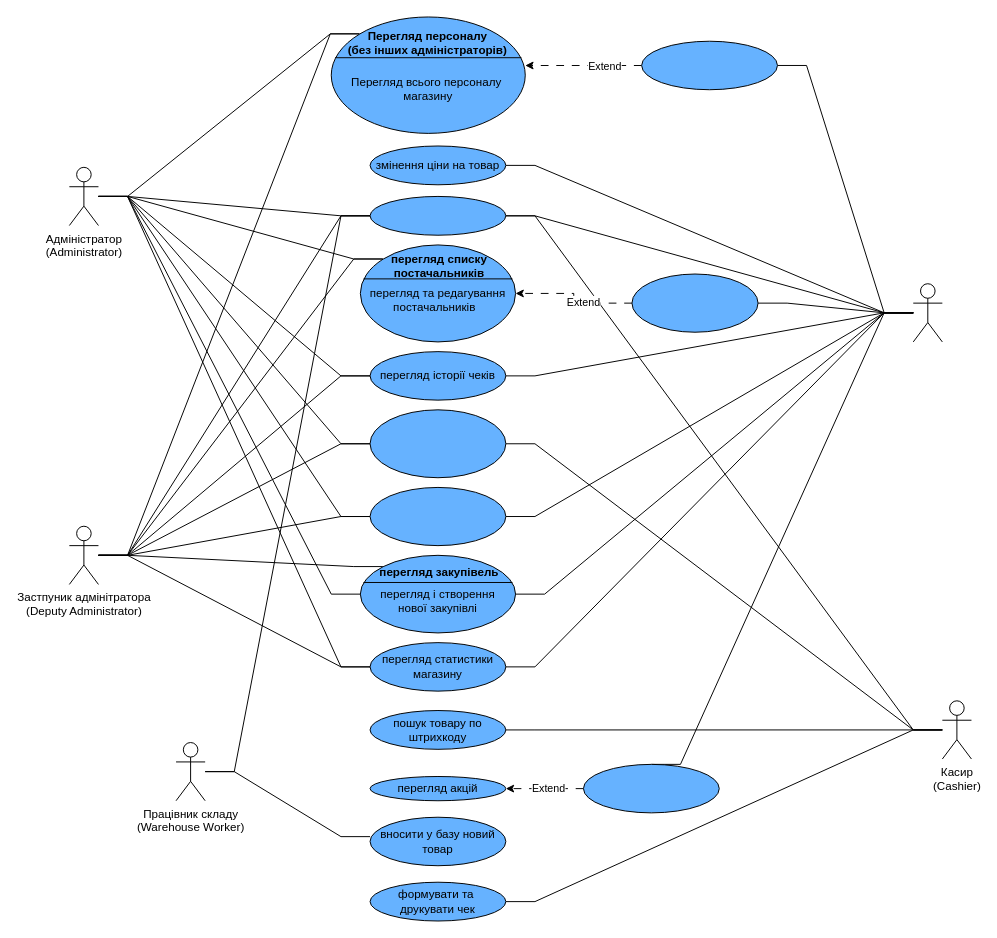
Some shapes in this 997 by 938 pixel diagram are drawn without their labels. The shapes that lost their labels are listed below. From the top down, each one's centre as x and y in pixels, then its label:
At point 709,65: "редагувати персонал магазину".
At point 437,215: "перегляд складу".
At point 694,302: "створити нового постачальника".
At point 927,312: "Власник (Owner)".
At point 437,443: "заповнення заяви на повернення товару та коштів".
At point 437,516: "перегляд робочого графіку працівників".
At point 650,788: "редагування та створення акцій".
